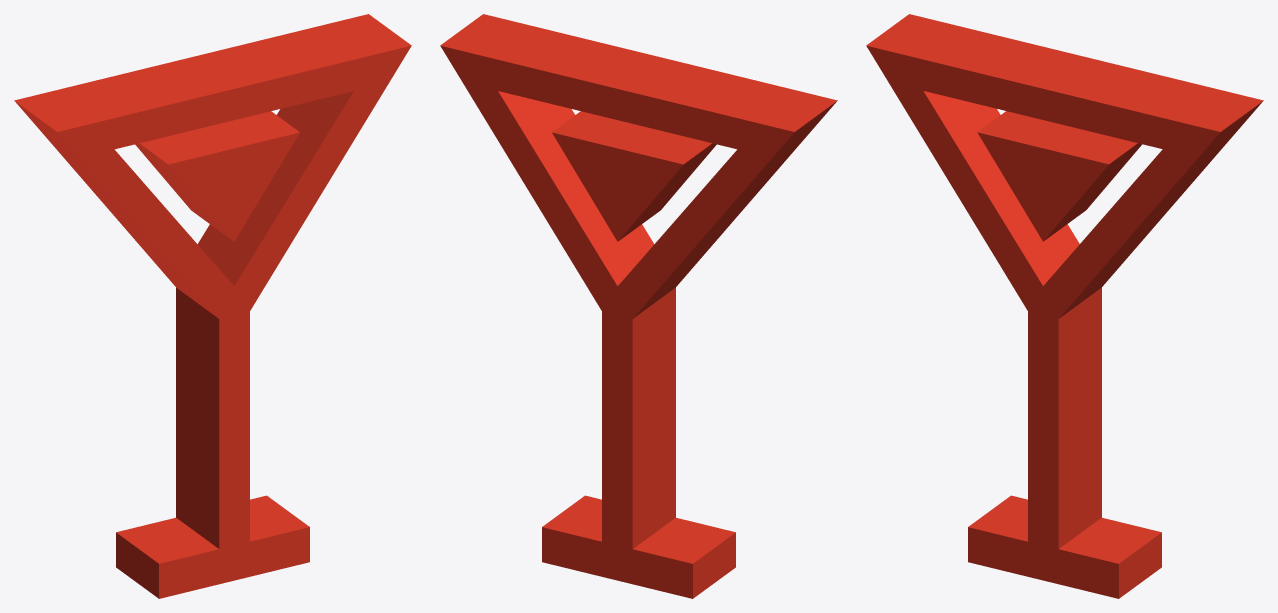
Rendered from Icon_Cocktail.fbx.
The picture shows the model from 3 angles, left to right: view 1: azimuth 30°, elevation 25°; view 2: azimuth 150°, elevation 25°; view 3: azimuth 330°, elevation 25°; orthographic projection.
Parts seen in each view (by area): view 1: Icon_Cocktail; view 2: Icon_Cocktail; view 3: Icon_Cocktail.
Boxes of the visible parts, box(x1,y1,x2,y2) form: Icon_Cocktail: box(14, 14, 411, 598); Icon_Cocktail: box(440, 14, 837, 598); Icon_Cocktail: box(866, 14, 1263, 598).
Bounding box in the file's own units: 57.18 × 75.79 × 12.06.
